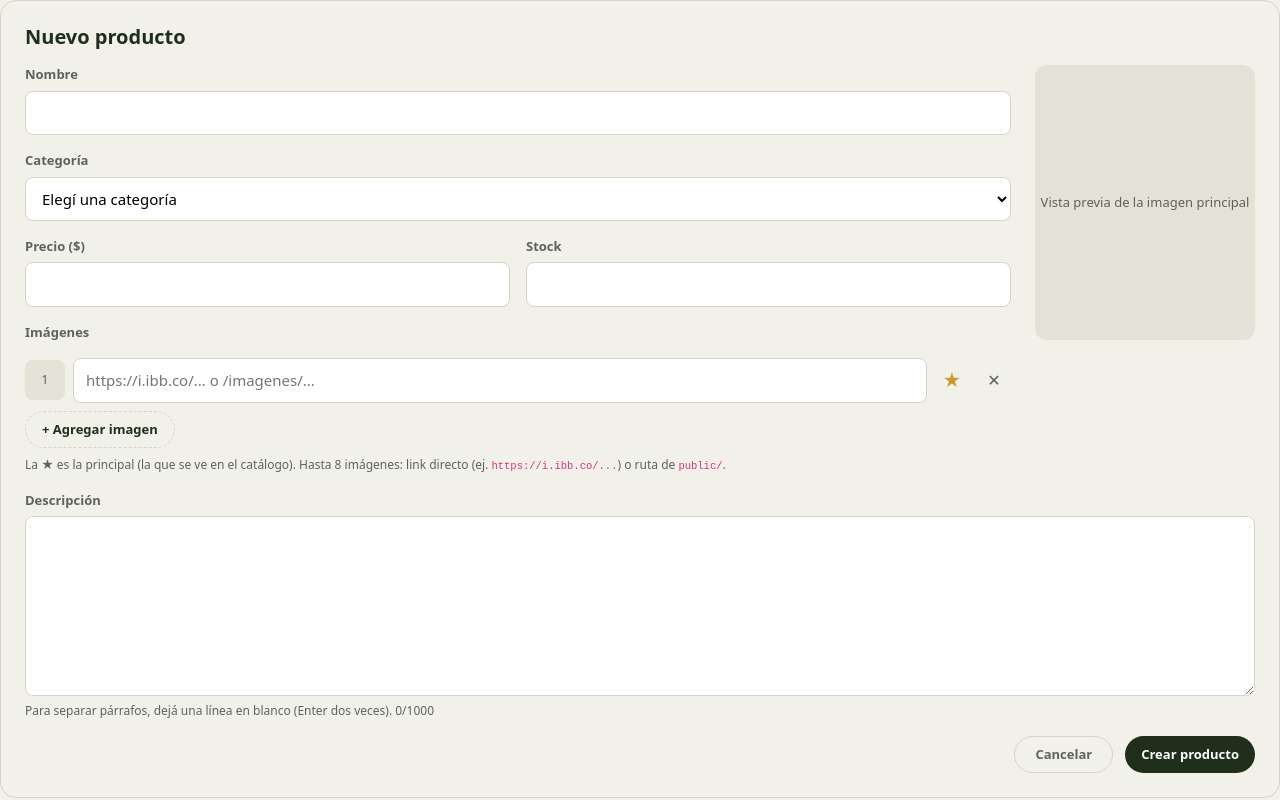
ProductoForm › no guarda si faltan datos y marca los errores
Click the button "Crear producto" at (1190, 755), box [1125,736,1255,773]
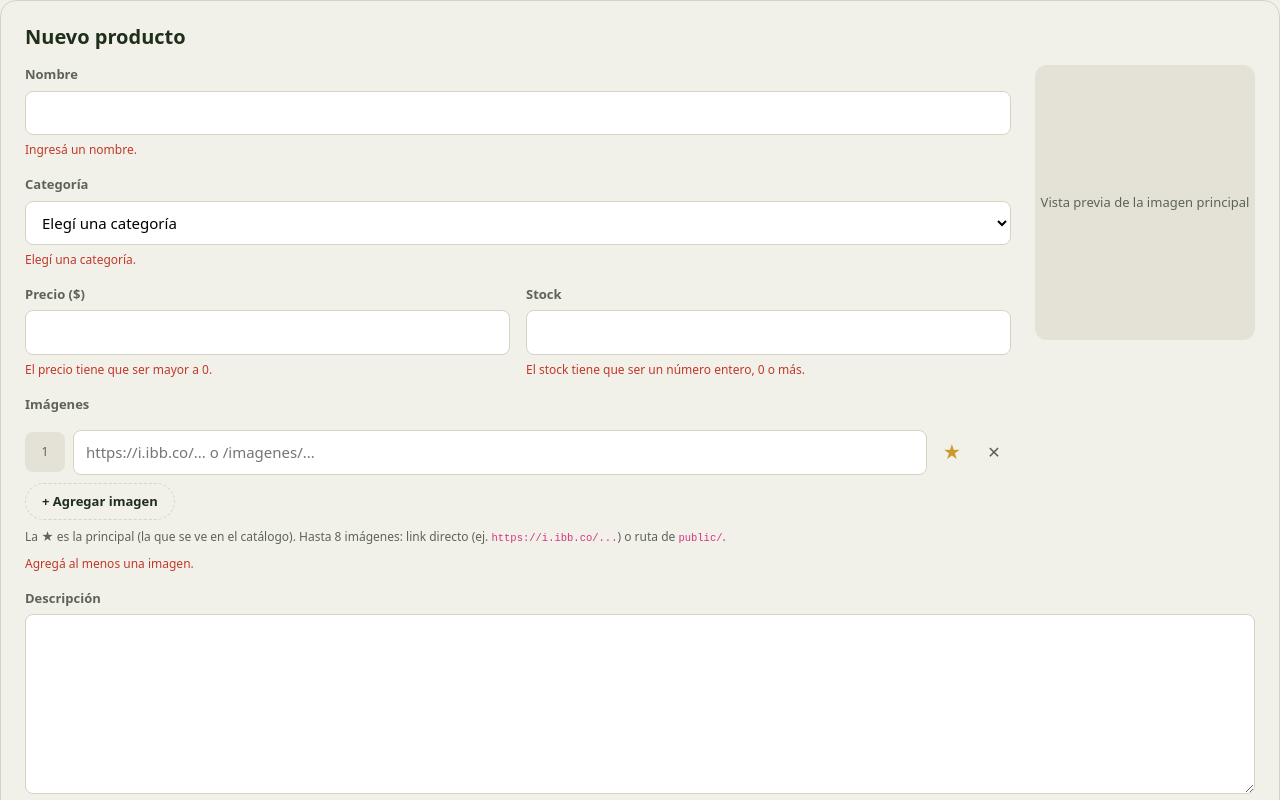
Result: the text "Ingresá un nombre." is shown at [25,141,137,158]
Result: the text "Elegí una categoría." is shown at [25,250,136,268]
Result: the text "El precio tiene que ser mayor a 0." is shown at [25,360,212,378]
